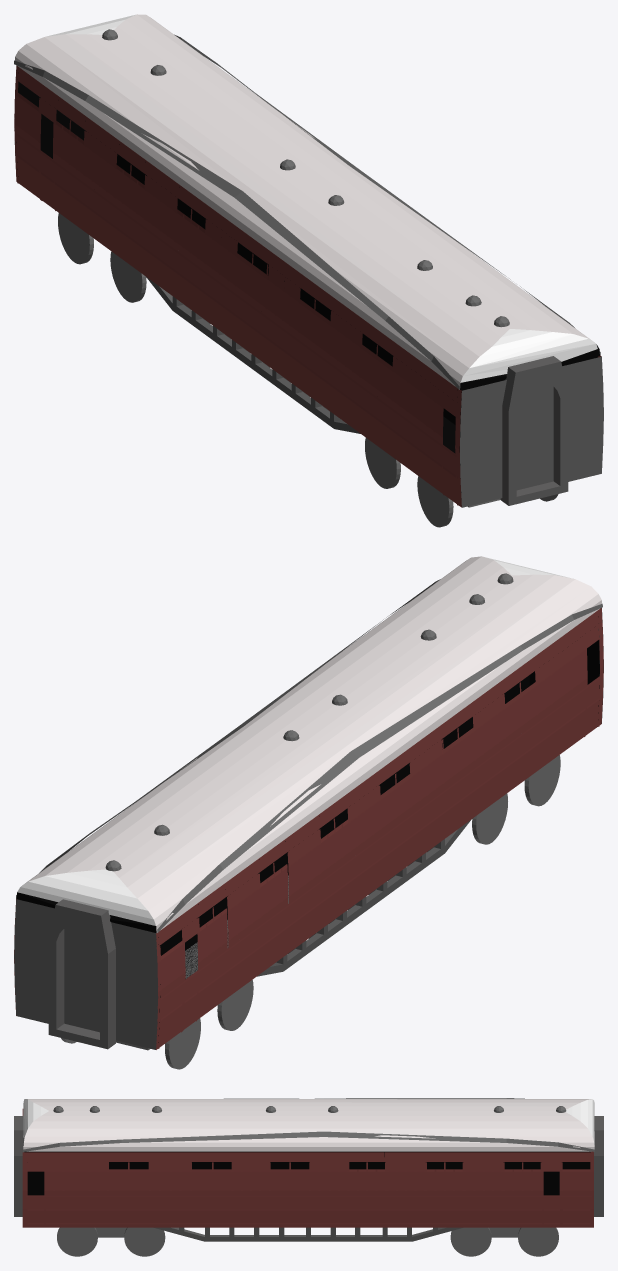
File: lner-gresley-express-parcel-brake-m.dae
3 views of the same model, one above another, from view 1: azimuth 30°, elevation 25°; view 2: azimuth 150°, elevation 25°; view 3: azimuth 270°, elevation 25° (orthographic). The views are drawn at different scales.
Visible parts, largest first — view 1: Suzanne_001, Plane_358, Plane_070, Tube_002, Plane_326, Suzanne_004, Plane_359, Plane_357, Plane_332, Plane_019, Plane_281, Plane_276 (+19 smaller); view 2: Suzanne_001, Plane_358, Plane_001, Tube_004, Plane_326, Suzanne_004, Plane_359, Plane_357, Plane_019, Plane_332, Plane_281, Plane_276 (+18 smaller); view 3: Suzanne_001, Plane_007, Plane_019, Plane_361, Plane_006, Suzanne_003, Plane_005, Plane_158, Plane_079, Plane_239, Plane_242, Plane_077 (+31 smaller).
Part boxes in pixels (bbox=[...]): Suzanne_001: bbox=[15, 14, 599, 389]; Plane_358: bbox=[14, 138, 461, 507]; Plane_070: bbox=[460, 356, 603, 507]; Tube_002: bbox=[500, 356, 568, 505]; Plane_326: bbox=[176, 209, 392, 406]; Suzanne_004: bbox=[14, 60, 459, 389]; Plane_359: bbox=[15, 72, 461, 404]; Plane_357: bbox=[14, 131, 459, 463]; Plane_332: bbox=[179, 185, 440, 381]; Plane_019: bbox=[116, 144, 455, 424]; Plane_281: bbox=[146, 176, 177, 247]; Plane_276: bbox=[85, 131, 116, 203]; Suzanne_001: bbox=[16, 556, 601, 933]; Plane_358: bbox=[156, 681, 603, 1049]; Plane_001: bbox=[14, 899, 158, 1049]; Tube_004: bbox=[48, 899, 115, 1049]; Plane_326: bbox=[321, 682, 536, 879]; Suzanne_004: bbox=[157, 603, 602, 932]; Plane_359: bbox=[156, 614, 602, 947]; Plane_357: bbox=[157, 673, 603, 1006]; Plane_019: bbox=[160, 675, 529, 955]; Plane_332: bbox=[319, 623, 580, 820]; Plane_281: bbox=[288, 829, 319, 901]; Plane_276: bbox=[227, 874, 258, 945]; Suzanne_001: bbox=[23, 1099, 594, 1151]; Plane_007: bbox=[22, 1200, 593, 1227]; Plane_019: bbox=[24, 1151, 590, 1195]; Plane_361: bbox=[109, 1171, 309, 1195]; Plane_006: bbox=[22, 1157, 593, 1161]; Suzanne_003: bbox=[23, 1131, 594, 1151]; Plane_005: bbox=[22, 1195, 593, 1199]; Plane_158: bbox=[50, 1152, 383, 1157]; Plane_079: bbox=[26, 1195, 591, 1196]; Plane_239: bbox=[386, 1162, 425, 1195]; Plane_242: bbox=[464, 1162, 502, 1195]; Plane_077: bbox=[27, 1209, 590, 1210].
Bounding box in the file's own units: 2.08 × 11.39 × 2.82.
